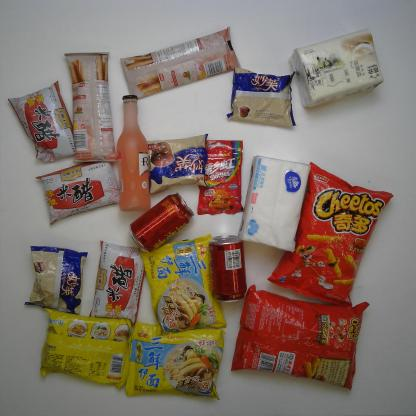Alcohol: (115, 93, 158, 214)
Candy: (196, 138, 245, 214)
Dessert: (119, 28, 241, 100), (63, 50, 119, 161), (227, 66, 296, 130), (25, 245, 87, 316), (144, 132, 208, 193)
Drink: (126, 191, 196, 252), (207, 235, 247, 301)
Instant Noodles: (137, 234, 227, 332), (36, 305, 129, 389), (131, 322, 223, 400)
Puffed Food: (269, 161, 393, 309), (229, 284, 368, 390)
Seasoner: (7, 79, 79, 163), (37, 156, 123, 224), (92, 241, 146, 324)
Tissue: (288, 30, 384, 107), (239, 154, 311, 254)
